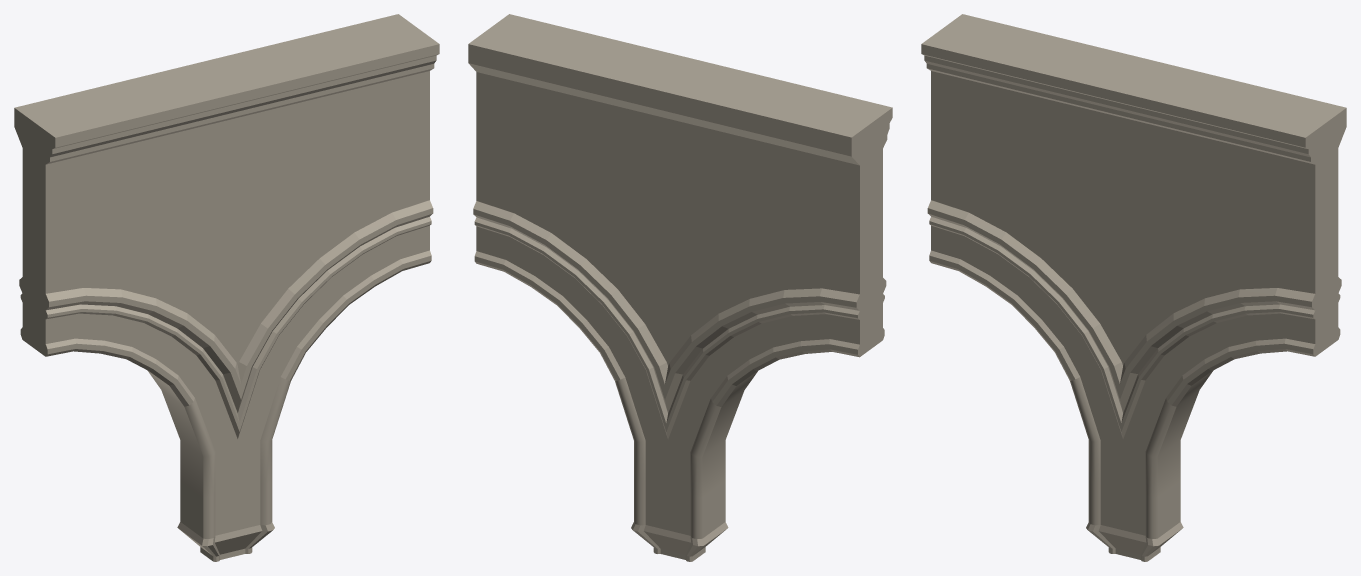
The model's file is BC_InsideArcwall_A.fbx.
3 renders of one model, left to right at view 1: azimuth 30°, elevation 25°; view 2: azimuth 150°, elevation 25°; view 3: azimuth 330°, elevation 25°, orthographic.
Parts seen in each view (by area): view 1: BC_InsideArcwall_A; view 2: BC_InsideArcwall_A; view 3: BC_InsideArcwall_A.
Part boxes in pixels (<box>): BC_InsideArcwall_A: <box>14,14,439,561</box>; BC_InsideArcwall_A: <box>468,14,892,561</box>; BC_InsideArcwall_A: <box>921,14,1346,561</box>.
Size of the model in its own units: 415 by 492 by 76.89.
